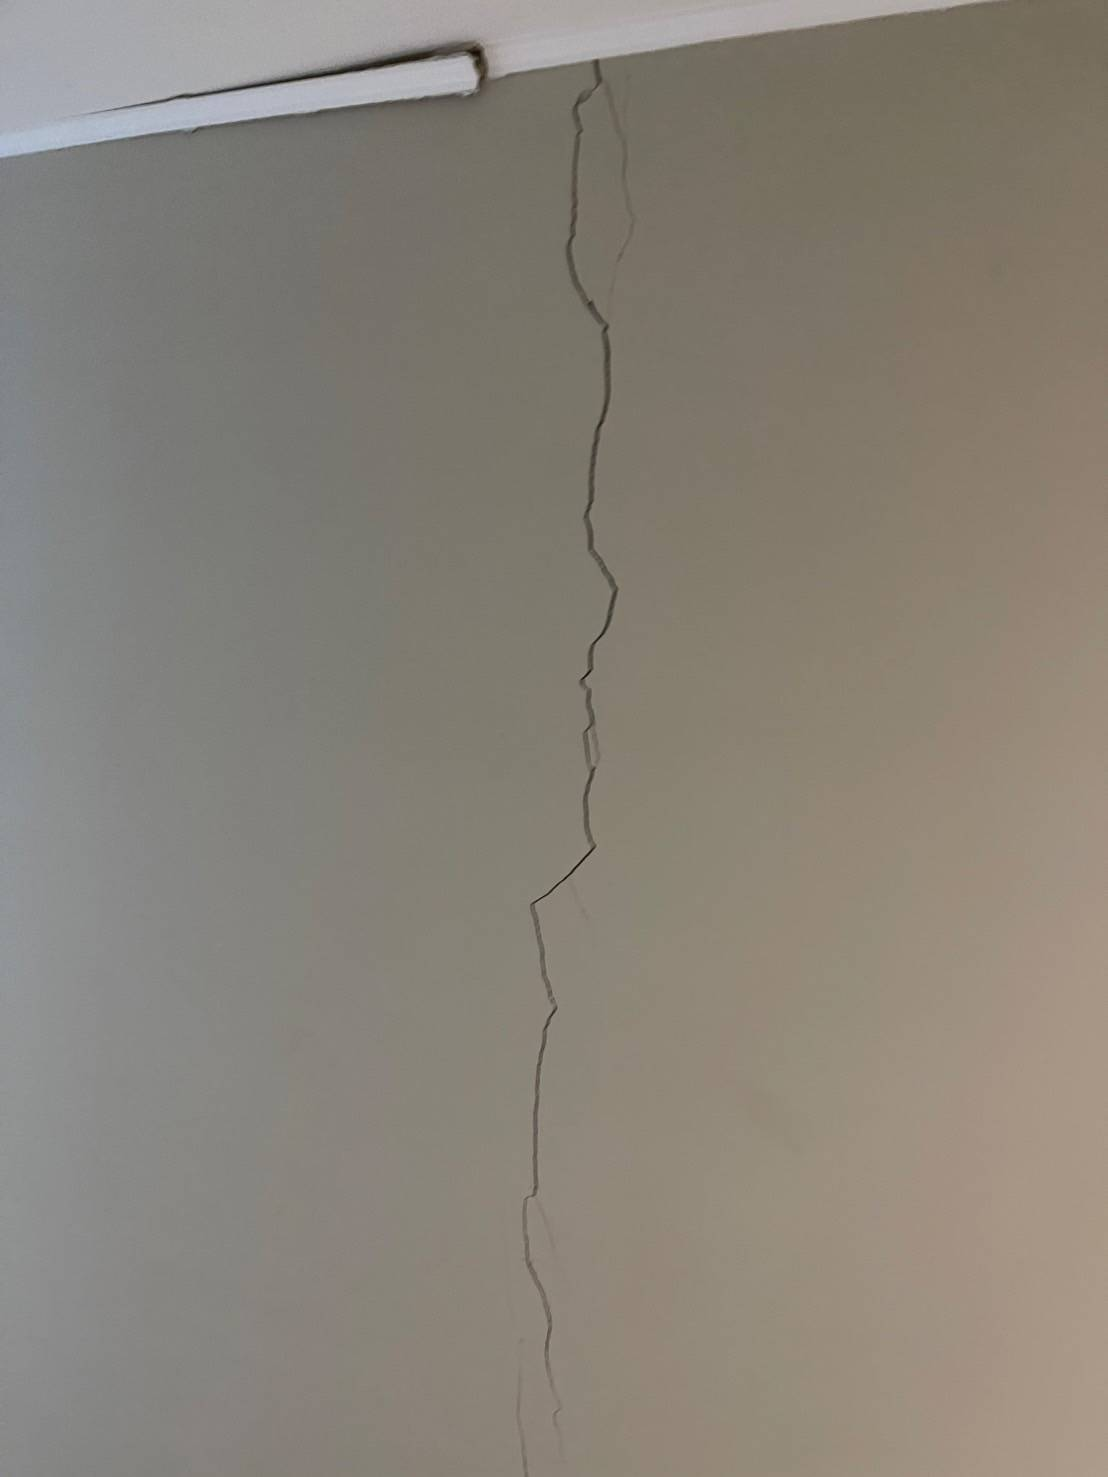Low: (410, 47, 825, 1477)
